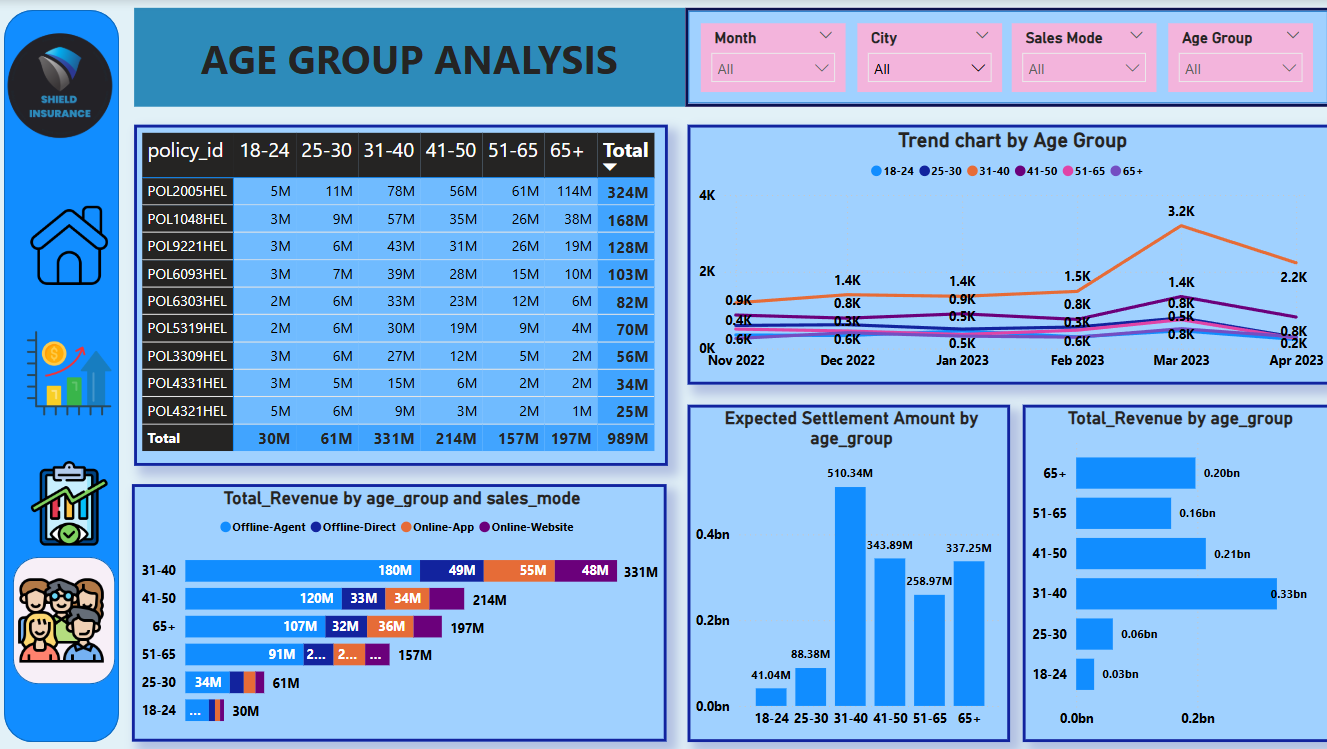

Layout of this report page (visuals, bound fields, positions):
{"tool":"powerbi","page":{"name":"Age Group","canvas":[1280,720],"ordinal":3},"visuals":[{"type":"shape","box":[9.5,9.5,109.1,694.9],"z":0},{"type":"shape","box":[19,528.9,97.2,121],"z":1000},{"type":"textbox","box":[133.8,9,522.7,94.1],"z":2000},{"type":"shape","box":[656.6,9,613.2,94.1],"z":3000},{"type":"image","box":[27.1,184.5,90.4,99.5],"z":4000},{"type":"slicer","fields":{"Values":["dim_customer.city"]},"box":[820.6,23.5,137.3,65.1],"z":5000,"group":"g1"},{"type":"image","box":[27.1,428.1,90.4,99.5],"z":5000},{"type":"image","box":[19,540.8,92.5,99.6],"z":6000},{"type":"image","box":[27.1,306.3,90.4,99.5],"z":7000},{"type":"image","box":[2.4,23.7,123.3,118.6],"z":8000},{"type":"slicer","fields":{"Values":["dim_date.mmm_yy"]},"box":[672.8,23.5,137.3,65.1],"z":9000,"group":"g1"},{"type":"group","id":"g1","title":"Group 1","box":[672.8,23.5,580.6,65.1],"z":9000},{"type":"slicer","fields":{"Values":["fact_premiums.sales_mode"]},"box":[968.3,23.5,137.3,65.1],"z":10000,"group":"g1"},{"type":"pivotTable","fields":{"Rows":["dim_policies.policy_id"],"Values":["Key Metrics.Revenue"],"Columns":["dim_age_group.age_group"]},"box":[133.8,119.4,506.4,323.8],"z":10000},{"type":"slicer","fields":{"Values":["dim_customer.age_group"]},"box":[1116.1,23.5,137.3,65.1],"z":11000,"group":"g1"},{"type":"barChart","fields":{"Category":["dim_customer.age_group"],"Series":["fact_premiums.sales_mode"],"Y":["Key Metrics.Revenue"]},"box":[132.8,460.1,507.6,244.3],"z":11000},{"type":"columnChart","title":"Expected Settlement Amount by age_group","fields":{"Category":["dim_age_group.age_group"],"Y":["Sum(fact_premiums.est_settlement_amt)"]},"box":[659.3,384.2,306,320.2],"z":12000},{"type":"lineChart","title":"Trend chart by Age Group","fields":{"Category":["dim_date.date.Variation.Date Hierarchy.Year","dim_date.date.Variation.Date Hierarchy.Month"],"Series":["dim_customer.age_group"],"Y":["Key Metrics.Total_Customers"]},"box":[659.3,118.6,611.9,246.7],"z":13000},{"type":"barChart","fields":{"Y":["Key Metrics.Total_Revenue"],"Category":["dim_age_group.age_group"]},"box":[977.2,384.2,294.1,320.2],"z":14000}]}

Visuals, with their boxes in screenshot pixels (x1, y1, x2, y2), scaled from the page's 1280x720 canvas onto the 1327x749 screenshot:
shape: {"x1": 10, "y1": 10, "x2": 123, "y2": 733}
shape: {"x1": 20, "y1": 550, "x2": 120, "y2": 676}
textbox: {"x1": 139, "y1": 9, "x2": 681, "y2": 107}
shape: {"x1": 681, "y1": 9, "x2": 1316, "y2": 107}
image: {"x1": 28, "y1": 192, "x2": 122, "y2": 295}
slicer - dim_customer.city: {"x1": 851, "y1": 24, "x2": 993, "y2": 92}
image: {"x1": 28, "y1": 445, "x2": 122, "y2": 549}
image: {"x1": 20, "y1": 563, "x2": 116, "y2": 666}
image: {"x1": 28, "y1": 319, "x2": 122, "y2": 422}
image: {"x1": 2, "y1": 25, "x2": 130, "y2": 148}
slicer - dim_date.mmm_yy: {"x1": 698, "y1": 24, "x2": 840, "y2": 92}
"Group 1" group: {"x1": 698, "y1": 24, "x2": 1299, "y2": 92}
slicer - fact_premiums.sales_mode: {"x1": 1004, "y1": 24, "x2": 1146, "y2": 92}
pivotTable - dim_policies.policy_id x Key Metrics.Revenue: {"x1": 139, "y1": 124, "x2": 664, "y2": 461}
slicer - dim_customer.age_group: {"x1": 1157, "y1": 24, "x2": 1299, "y2": 92}
barChart - dim_customer.age_group x fact_premiums.sales_mode: {"x1": 138, "y1": 479, "x2": 664, "y2": 733}
"Expected Settlement Amount by age_group" columnChart: {"x1": 684, "y1": 400, "x2": 1001, "y2": 733}
"Trend chart by Age Group" lineChart: {"x1": 684, "y1": 123, "x2": 1318, "y2": 380}
barChart - Key Metrics.Total_Revenue x dim_age_group.age_group: {"x1": 1013, "y1": 400, "x2": 1318, "y2": 733}
